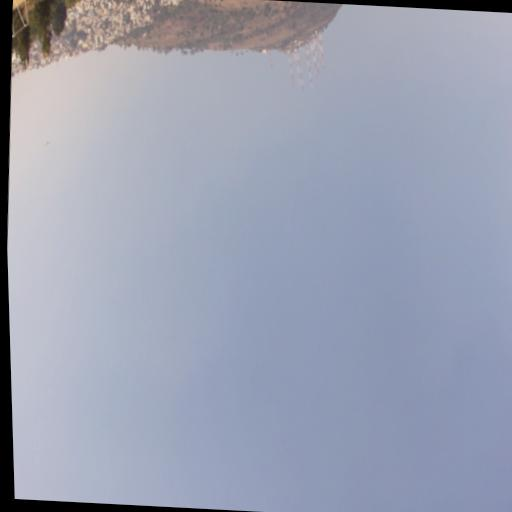drones: (44, 139, 51, 148)
